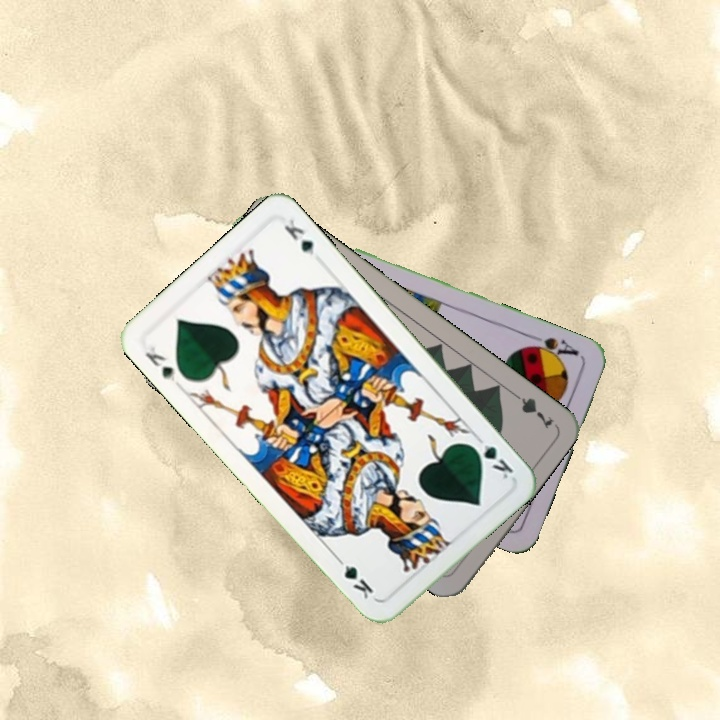G7: (505, 386, 557, 432)
GK: (466, 432, 516, 482), (141, 341, 178, 385)
SA: (523, 330, 582, 364)
